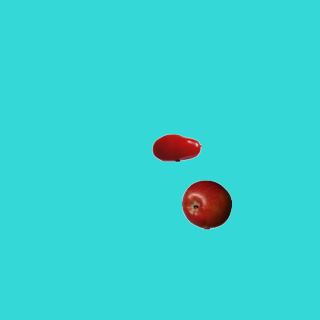Apple Braeburn: (181, 179, 231, 229)
Tomato 2: (151, 122, 201, 172)
